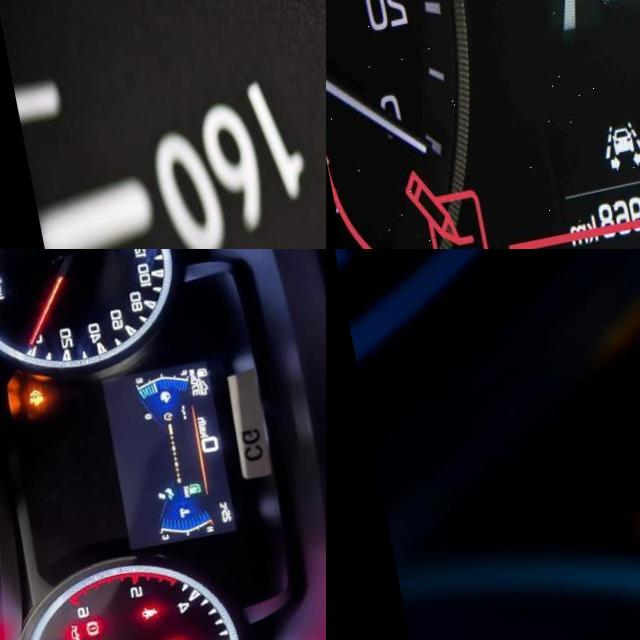Seat Belt: (121, 616, 141, 632)
